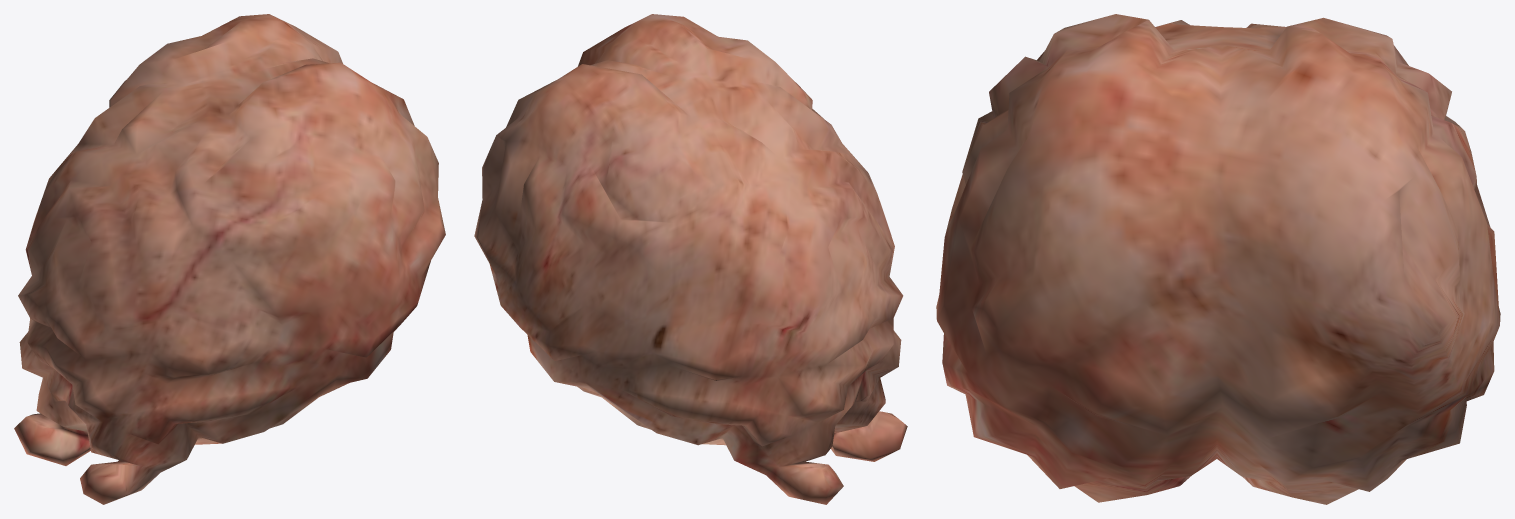
The model's file is Brain_01.glb.
The picture shows the model from 3 angles, left to right: view 1: azimuth 30°, elevation 25°; view 2: azimuth 150°, elevation 25°; view 3: azimuth 270°, elevation 25°; orthographic projection. The views are drawn at different scales.
Visible parts, largest first — view 1: Brain_01; view 2: Brain_01; view 3: Brain_01.
Part boxes in pixels (x1=…): Brain_01: x1=14, y1=14, x2=445, y2=504; Brain_01: x1=474, y1=14, x2=907, y2=504; Brain_01: x1=936, y1=14, x2=1500, y2=504.
Bounding box in the file's own units: 0.0768 × 0.0818 × 0.0742.
Materials: 1 (1 with a texture image).
